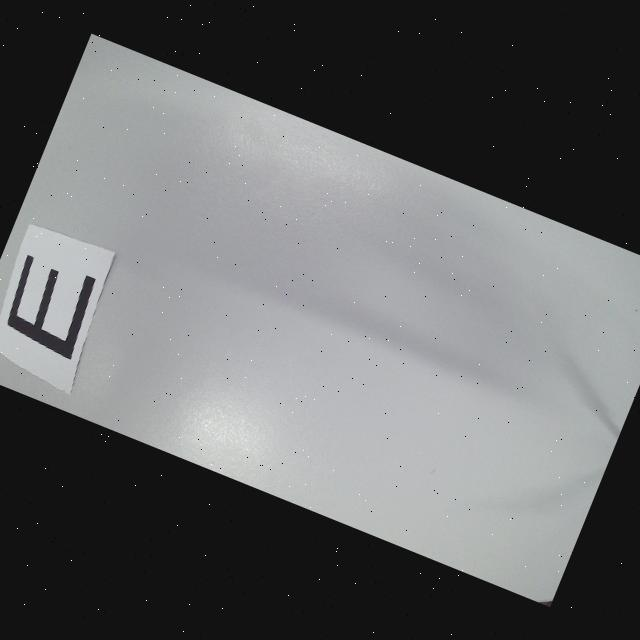FAKE: (0, 250, 102, 360)
